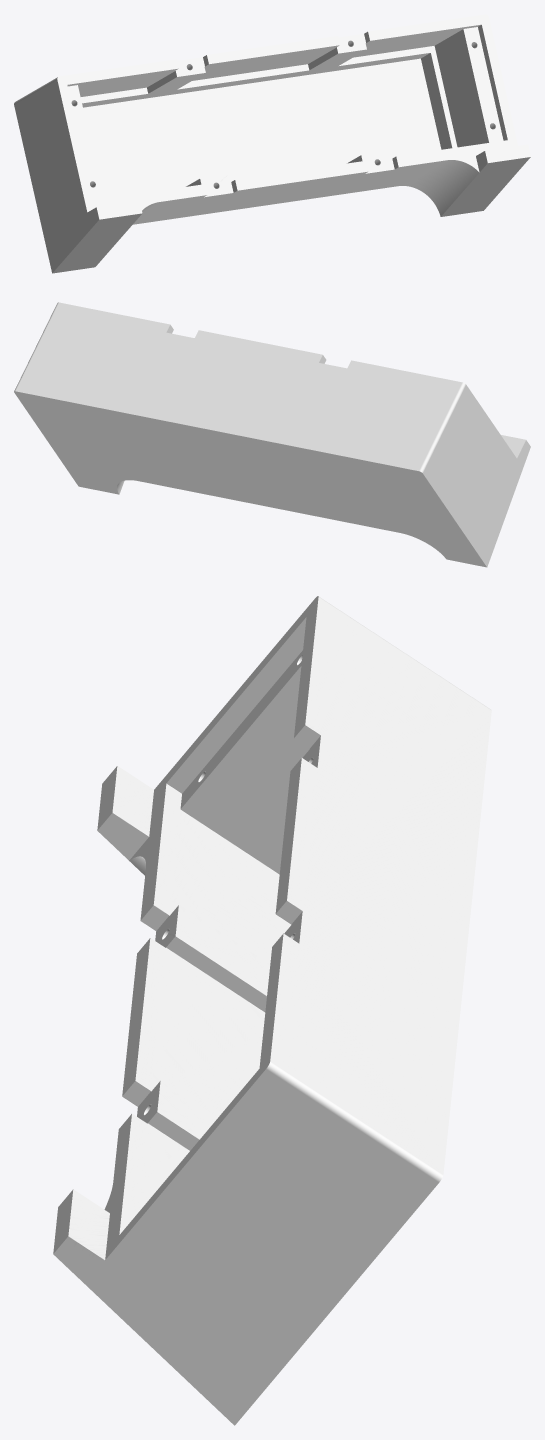
3 renders of one model, top to bottom at view 1: azimuth 30°, elevation 25°; view 2: azimuth 150°, elevation 25°; view 3: azimuth 270°, elevation 25°, orthographic. The views are drawn at different scales.
Parts seen in each view (by area): view 1: node_id3; view 2: node_id3; view 3: node_id3.
Boxes of the visible parts, box(x1,y1,x2,y2) form: node_id3: box(14, 14, 530, 273); node_id3: box(14, 302, 530, 567); node_id3: box(53, 596, 491, 1425).
Size of the model in its own units: 0.526 by 0.2529 by 0.231.
1 material, 1 textured.
